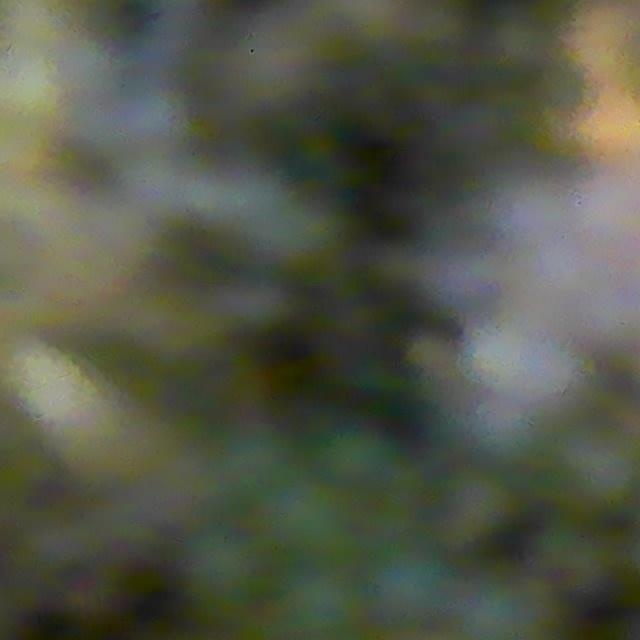SeaGrape: (370, 547, 452, 626), (488, 319, 573, 392), (283, 568, 363, 640), (582, 286, 640, 350), (503, 243, 567, 295), (576, 180, 640, 228), (515, 189, 577, 237), (485, 398, 537, 446), (446, 250, 498, 295)
